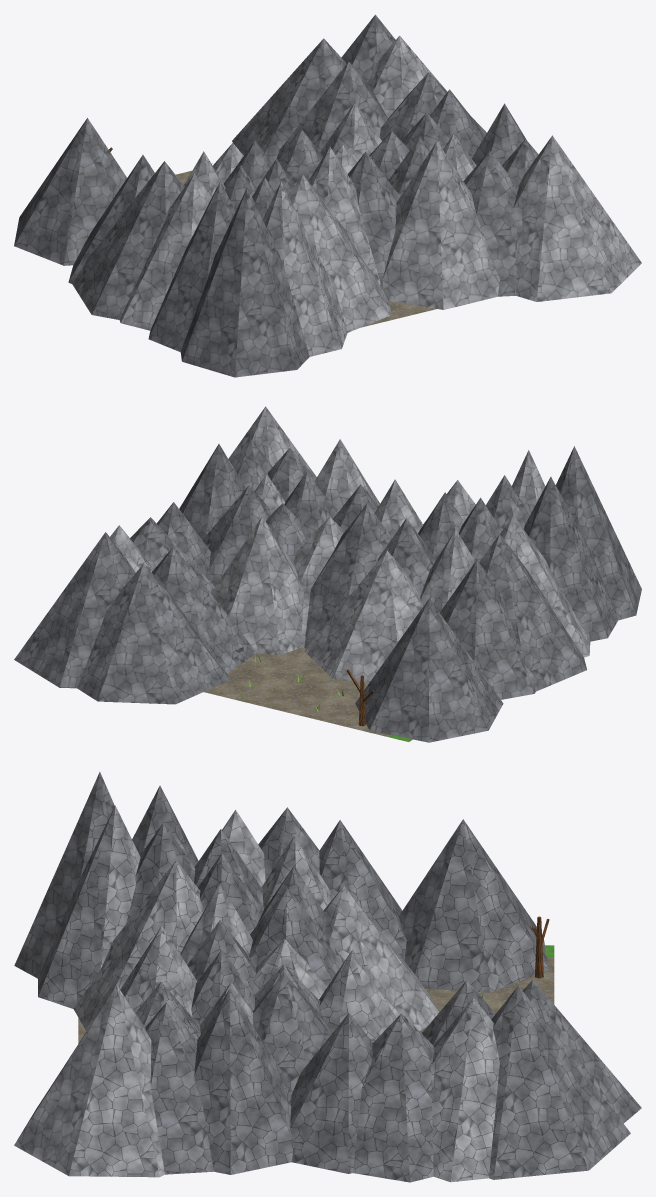
File: chunk_8_18.glb
3 renders of one model, top to bottom at view 1: azimuth 30°, elevation 25°; view 2: azimuth 150°, elevation 25°; view 3: azimuth 270°, elevation 25°, orthographic. The views are drawn at different scales.
Parts seen in each view (by area): view 1: chunk_8_18; view 2: chunk_8_18; view 3: chunk_8_18.
Boxes of the visible parts, bbox=[...] form: chunk_8_18: bbox=[14, 14, 641, 377]; chunk_8_18: bbox=[14, 406, 641, 742]; chunk_8_18: bbox=[14, 772, 641, 1182].
Size of the model in its own units: 21.7 by 7.42 by 21.12.
Materials: 8 (7 with a texture image).
